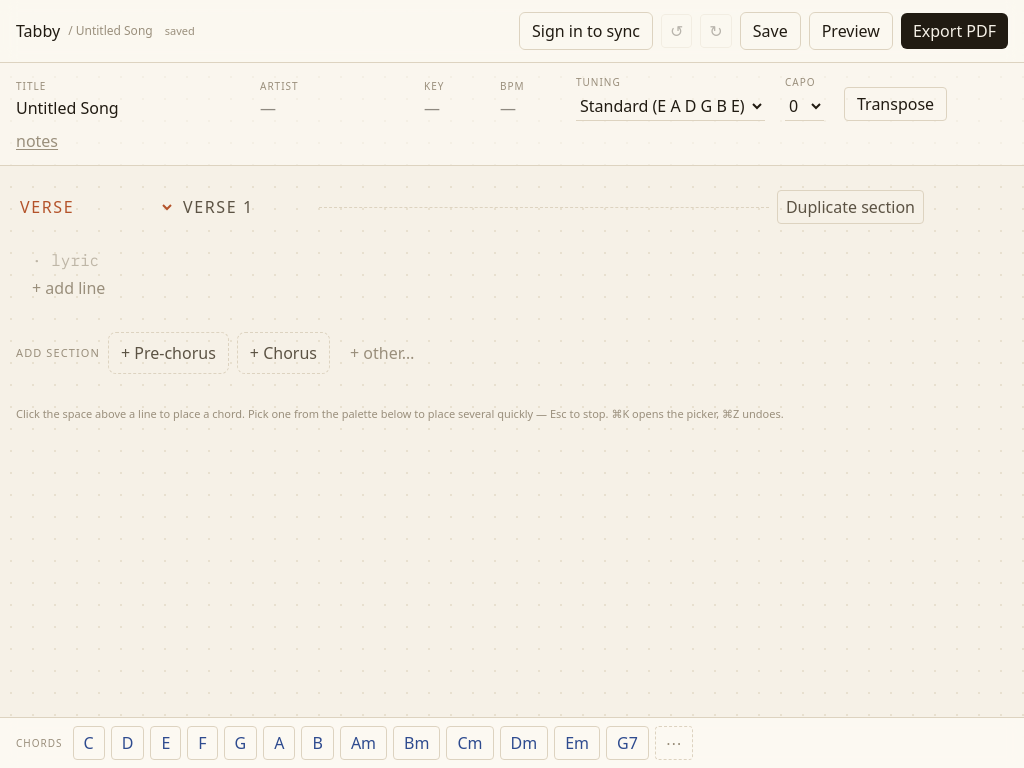
it: app smoke › opens the PDF export options dialog
Click the button "Export PDF" at (954, 31), box [901,13,1008,49]
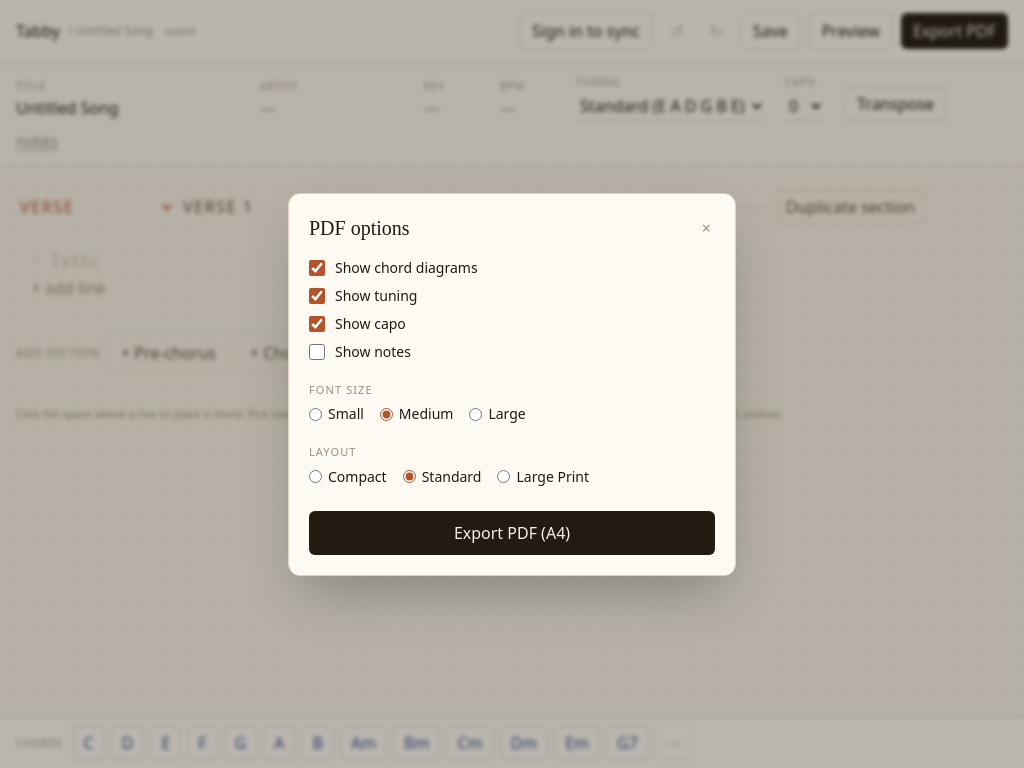
Result: the dialog named "PDF export options" is shown
Click the button named "Close" at (706, 228), box [698,216,715,240]
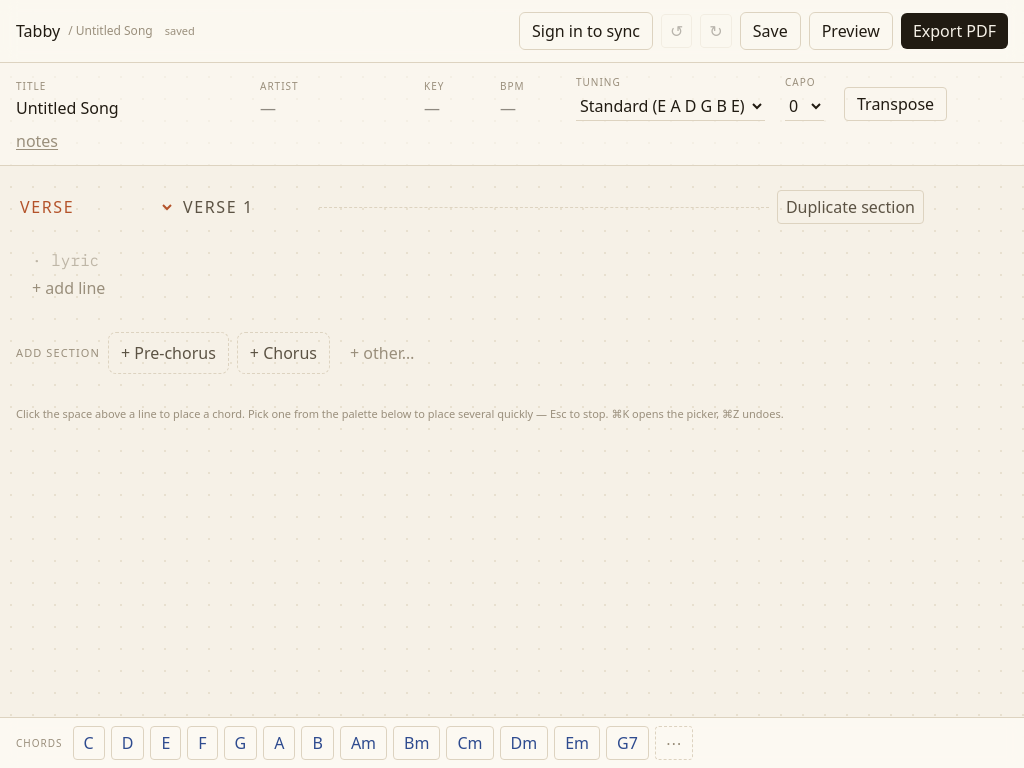
Result: the dialog is gone
